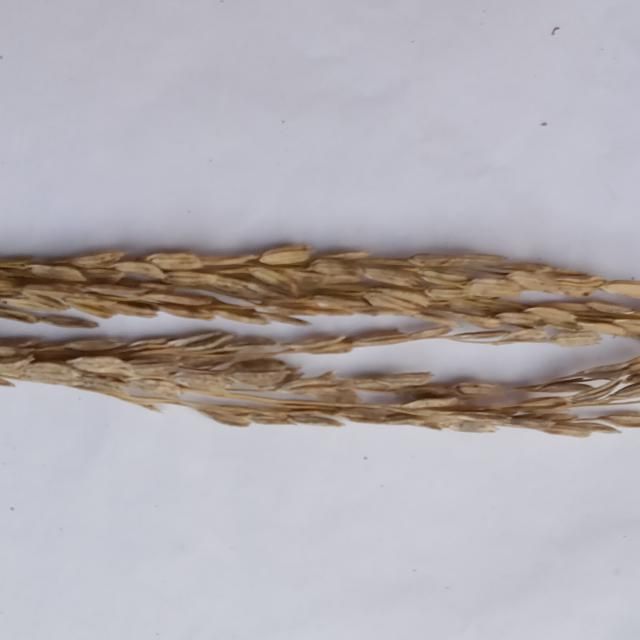Neck_Blast: (0, 326, 640, 436), (0, 246, 640, 326)
